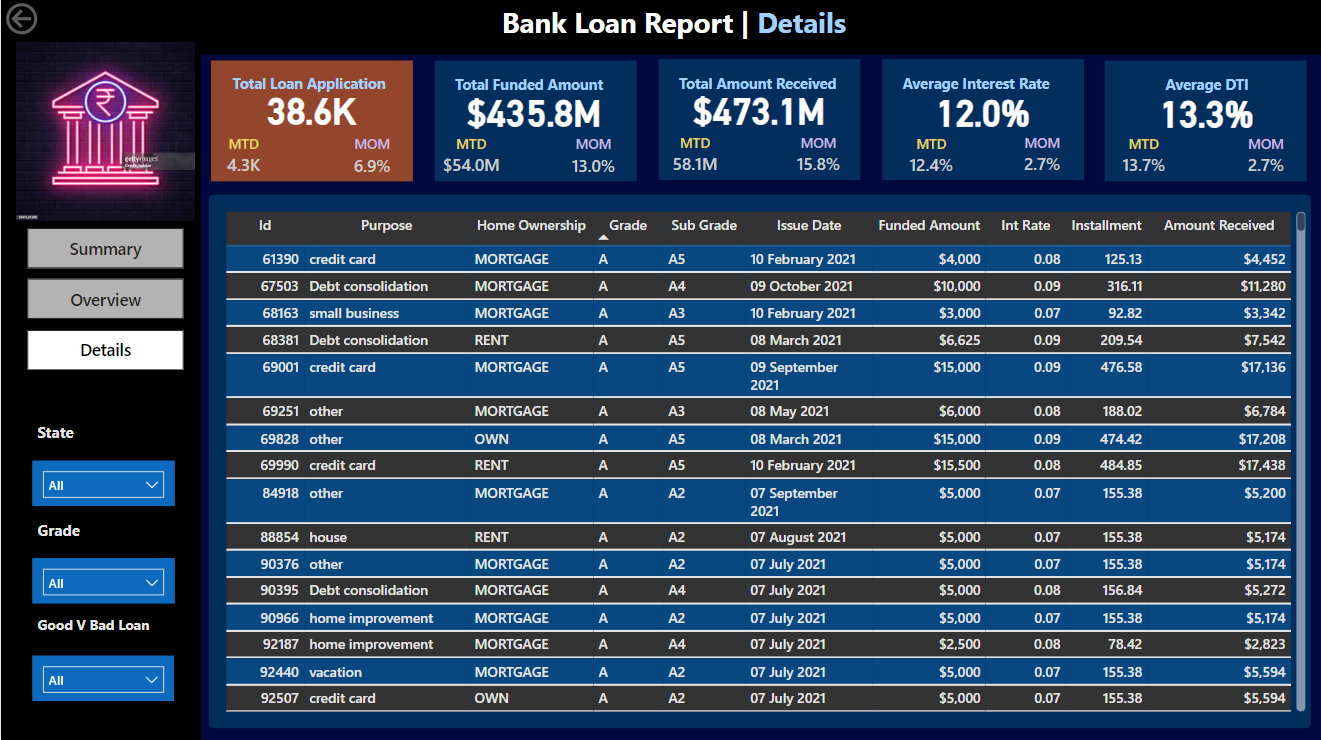

The page's visual inventory and layout, read from the dashboard file:
{"tool":"powerbi","page":{"name":"Details","canvas":[1280,720],"ordinal":2},"visuals":[{"type":"shape","box":[200,190,1064.3,515.7],"z":0},{"type":"shape","box":[9.6,0,1270.7,54.9],"z":1000},{"type":"shape","box":[0,0,192.9,720],"z":2000},{"type":"textbox","box":[379.1,0,541.2,54.9],"z":3000},{"type":"shape","box":[202.5,59.7,194.9,116.6],"z":4000},{"type":"card","fields":{"Values":["bank_loan_data.Total Application"]},"box":[206,82.4,186.8,49.5],"z":5000},{"type":"textbox","box":[218.1,68.1,173.1,50.8],"z":6000},{"type":"card","title":"MTD","fields":{"Values":["bank_loan_data.MTD Loan Applications"]},"box":[203,131.3,63.2,45.3],"z":7000},{"type":"card","title":"MOM","fields":{"Values":["bank_loan_data.MOM Loan Applications"]},"box":[324.2,131.9,67.3,44],"z":8000},{"type":"shape","box":[419.1,59.9,194.9,116.6],"z":9000},{"type":"card","fields":{"Values":["bank_loan_data.Total Funded Amount"]},"box":[421.5,83.6,186.8,49.5],"z":10000},{"type":"textbox","box":[432.6,68.3,173.1,50.8],"z":11000},{"type":"card","title":"MTD","fields":{"Values":["bank_loan_data.MTD Funded Amount"]},"box":[417.4,131.6,72.8,45.3],"z":12000},{"type":"card","title":"MOM","fields":{"Values":["bank_loan_data.MOM Funded Amount"]},"box":[538.2,131.6,67.3,44],"z":13000},{"type":"shape","box":[634.6,58.9,194.9,116.6],"z":14000},{"type":"card","fields":{"Values":["bank_loan_data.Total Amount Received"]},"box":[638.1,82.6,186.8,49.5],"z":15000},{"type":"textbox","box":[649.2,67.3,173.1,50.8],"z":16000},{"type":"card","title":"MTD","fields":{"Values":["bank_loan_data.MTD Total Amount Received"]},"box":[634,130.7,72.8,45.3],"z":17000},{"type":"card","title":"MOM","fields":{"Values":["bank_loan_data.MOM Total Amount Received"]},"box":[755.3,130.3,67.3,45.3],"z":18000},{"type":"shape","box":[850.1,59,194.9,116.6],"z":19000},{"type":"card","fields":{"Values":["bank_loan_data.Avg Interest Rate"]},"box":[853.6,82.7,186.8,49.5],"z":20000},{"type":"textbox","box":[865.2,67.1,163.5,50.8],"z":21000},{"type":"card","title":"MTD","fields":{"Values":["bank_loan_data.MTD Avg Interest Rate"]},"box":[849.4,131.1,97.1,44.3],"z":22000},{"type":"card","title":"MOM","fields":{"Values":["bank_loan_data.MOM Avg Interest Rate"]},"box":[971,130.3,67.3,45.3],"z":23000},{"type":"shape","box":[1065.6,60.2,194.9,116.6],"z":24000},{"type":"card","fields":{"Values":["bank_loan_data.Avg DTI"]},"box":[1070.2,83.9,186.8,49.5],"z":25000},{"type":"textbox","box":[1081.8,68.3,163.5,50.8],"z":26000},{"type":"card","title":"MTD","fields":{"Values":["bank_loan_data.MTD Avg DTI"]},"box":[1066.1,132,72.8,45.3],"z":27000},{"type":"card","title":"MOM","fields":{"Values":["bank_loan_data.MOM Avg DTI"]},"box":[1187.6,131.5,67.3,45.3],"z":28000},{"type":"actionButton","box":[0,0,100,40],"z":29000},{"type":"slicer","fields":{"Values":["bank_loan_data.address_state"]},"box":[30.7,446.7,137.4,44],"z":30000},{"type":"slicer","fields":{"Values":["bank_loan_data.grade"]},"box":[30.7,540.5,137.4,44],"z":31000},{"type":"textbox","box":[30.7,497.7,137.4,35.7],"z":32000},{"type":"slicer","fields":{"Values":["bank_loan_data.Good vs Bad Loan"]},"box":[30.6,634,137.1,44.3],"z":33000},{"type":"textbox","box":[30.7,591.5,137.4,35.7],"z":34000},{"type":"textbox","box":[30.7,403.9,137.4,35.7],"z":35000},{"type":"tableEx","fields":{"Values":["bank_loan_data.id","bank_loan_data.purpose","bank_loan_data.home_ownership","bank_loan_data.grade","bank_loan_data.sub_grade","bank_loan_data.issue_date","bank_loan_data.Total Funded Amount","Sum(bank_loan_data.int_rate)","Sum(bank_loan_data.installment)","bank_loan_data.Total Amount Received"]},"box":[211.1,201.5,1053.2,492.2],"z":36000},{"type":"image","box":[10,35.7,182.9,185.7],"z":37000},{"type":"pageNavigator","box":[25.7,221.4,151.4,138.6],"z":38000}]}

Visuals, with their boxes on the page's 1280x720 design canvas (x1, y1, x2, y2). These are canvas units, not pixel positions in the 1321x740 screenshot, which may show the page scaled, cropped or inside an application window:
shape: <region>200, 190, 1264, 706</region>
shape: <region>10, 0, 1280, 55</region>
shape: <region>0, 0, 193, 720</region>
textbox: <region>379, 0, 920, 55</region>
shape: <region>202, 60, 397, 176</region>
card - bank_loan_data.Total Application: <region>206, 82, 393, 132</region>
textbox: <region>218, 68, 391, 119</region>
"MTD" card: <region>203, 131, 266, 177</region>
"MOM" card: <region>324, 132, 392, 176</region>
shape: <region>419, 60, 614, 176</region>
card - bank_loan_data.Total Funded Amount: <region>422, 84, 608, 133</region>
textbox: <region>433, 68, 606, 119</region>
"MTD" card: <region>417, 132, 490, 177</region>
"MOM" card: <region>538, 132, 606, 176</region>
shape: <region>635, 59, 830, 176</region>
card - bank_loan_data.Total Amount Received: <region>638, 83, 825, 132</region>
textbox: <region>649, 67, 822, 118</region>
"MTD" card: <region>634, 131, 707, 176</region>
"MOM" card: <region>755, 130, 823, 176</region>
shape: <region>850, 59, 1045, 176</region>
card - bank_loan_data.Avg Interest Rate: <region>854, 83, 1040, 132</region>
textbox: <region>865, 67, 1029, 118</region>
"MTD" card: <region>849, 131, 946, 175</region>
"MOM" card: <region>971, 130, 1038, 176</region>
shape: <region>1066, 60, 1260, 177</region>
card - bank_loan_data.Avg DTI: <region>1070, 84, 1257, 133</region>
textbox: <region>1082, 68, 1245, 119</region>
"MTD" card: <region>1066, 132, 1139, 177</region>
"MOM" card: <region>1188, 132, 1255, 177</region>
actionButton: <region>0, 0, 100, 40</region>
slicer - bank_loan_data.address_state: <region>31, 447, 168, 491</region>
slicer - bank_loan_data.grade: <region>31, 540, 168, 584</region>
textbox: <region>31, 498, 168, 533</region>
slicer - bank_loan_data.Good vs Bad Loan: <region>31, 634, 168, 678</region>
textbox: <region>31, 592, 168, 627</region>
textbox: <region>31, 404, 168, 440</region>
tableEx - bank_loan_data.id x bank_loan_data.purpose: <region>211, 202, 1264, 694</region>
image: <region>10, 36, 193, 221</region>
pageNavigator: <region>26, 221, 177, 360</region>
